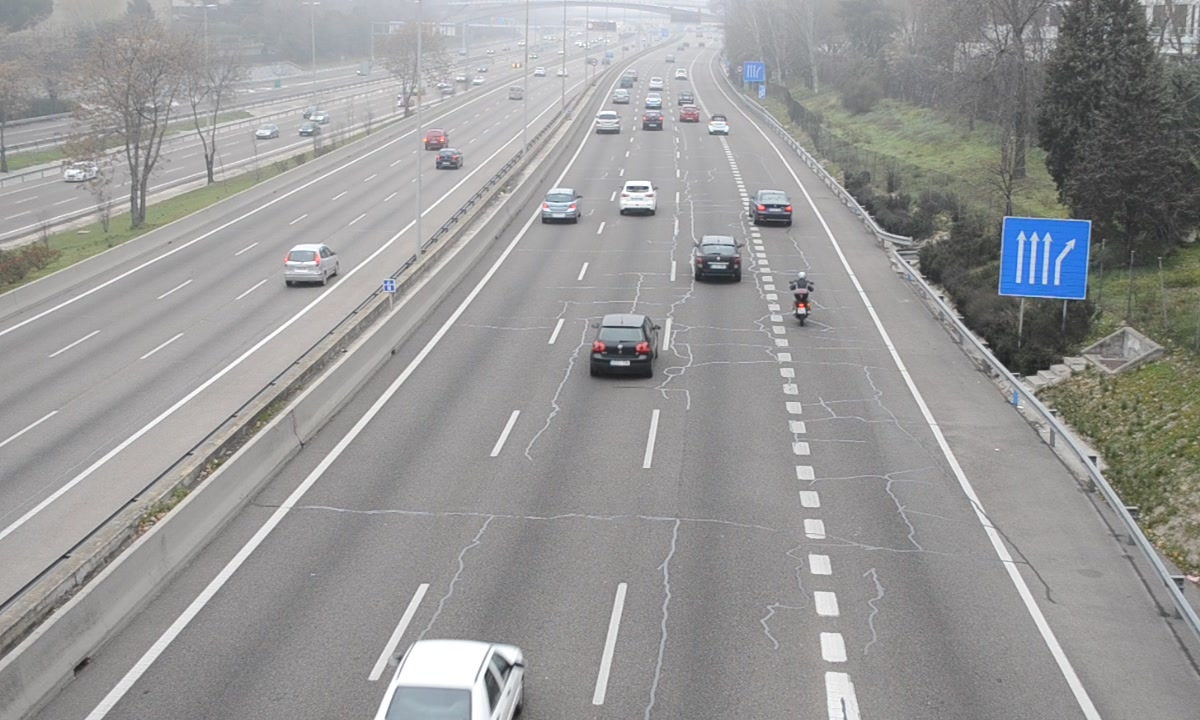car: (375, 640, 525, 720), (590, 312, 654, 373), (695, 237, 743, 282), (749, 188, 793, 225), (541, 188, 581, 223), (620, 181, 659, 214), (594, 108, 620, 132), (709, 113, 729, 137)
motorcycle: (788, 269, 815, 329)
